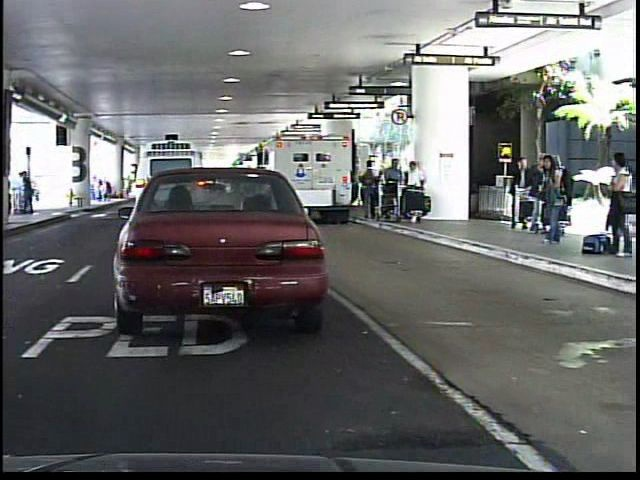person: (601, 147, 631, 263)
